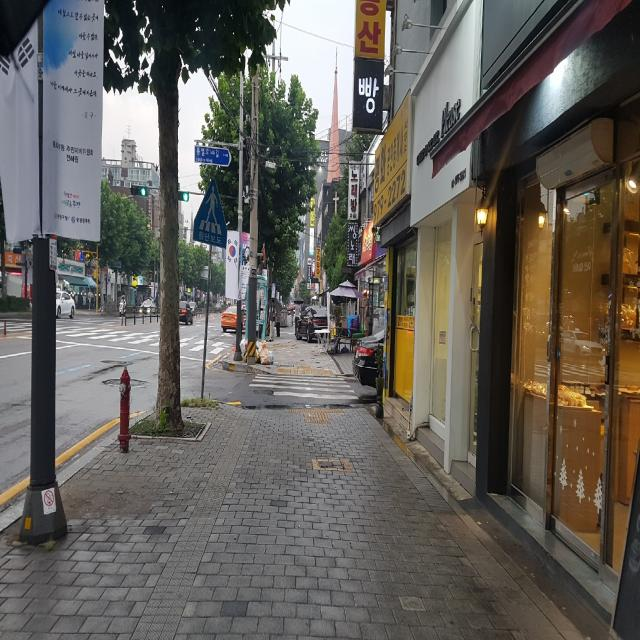횡단보도: (58, 323, 218, 358), (249, 374, 360, 399)
